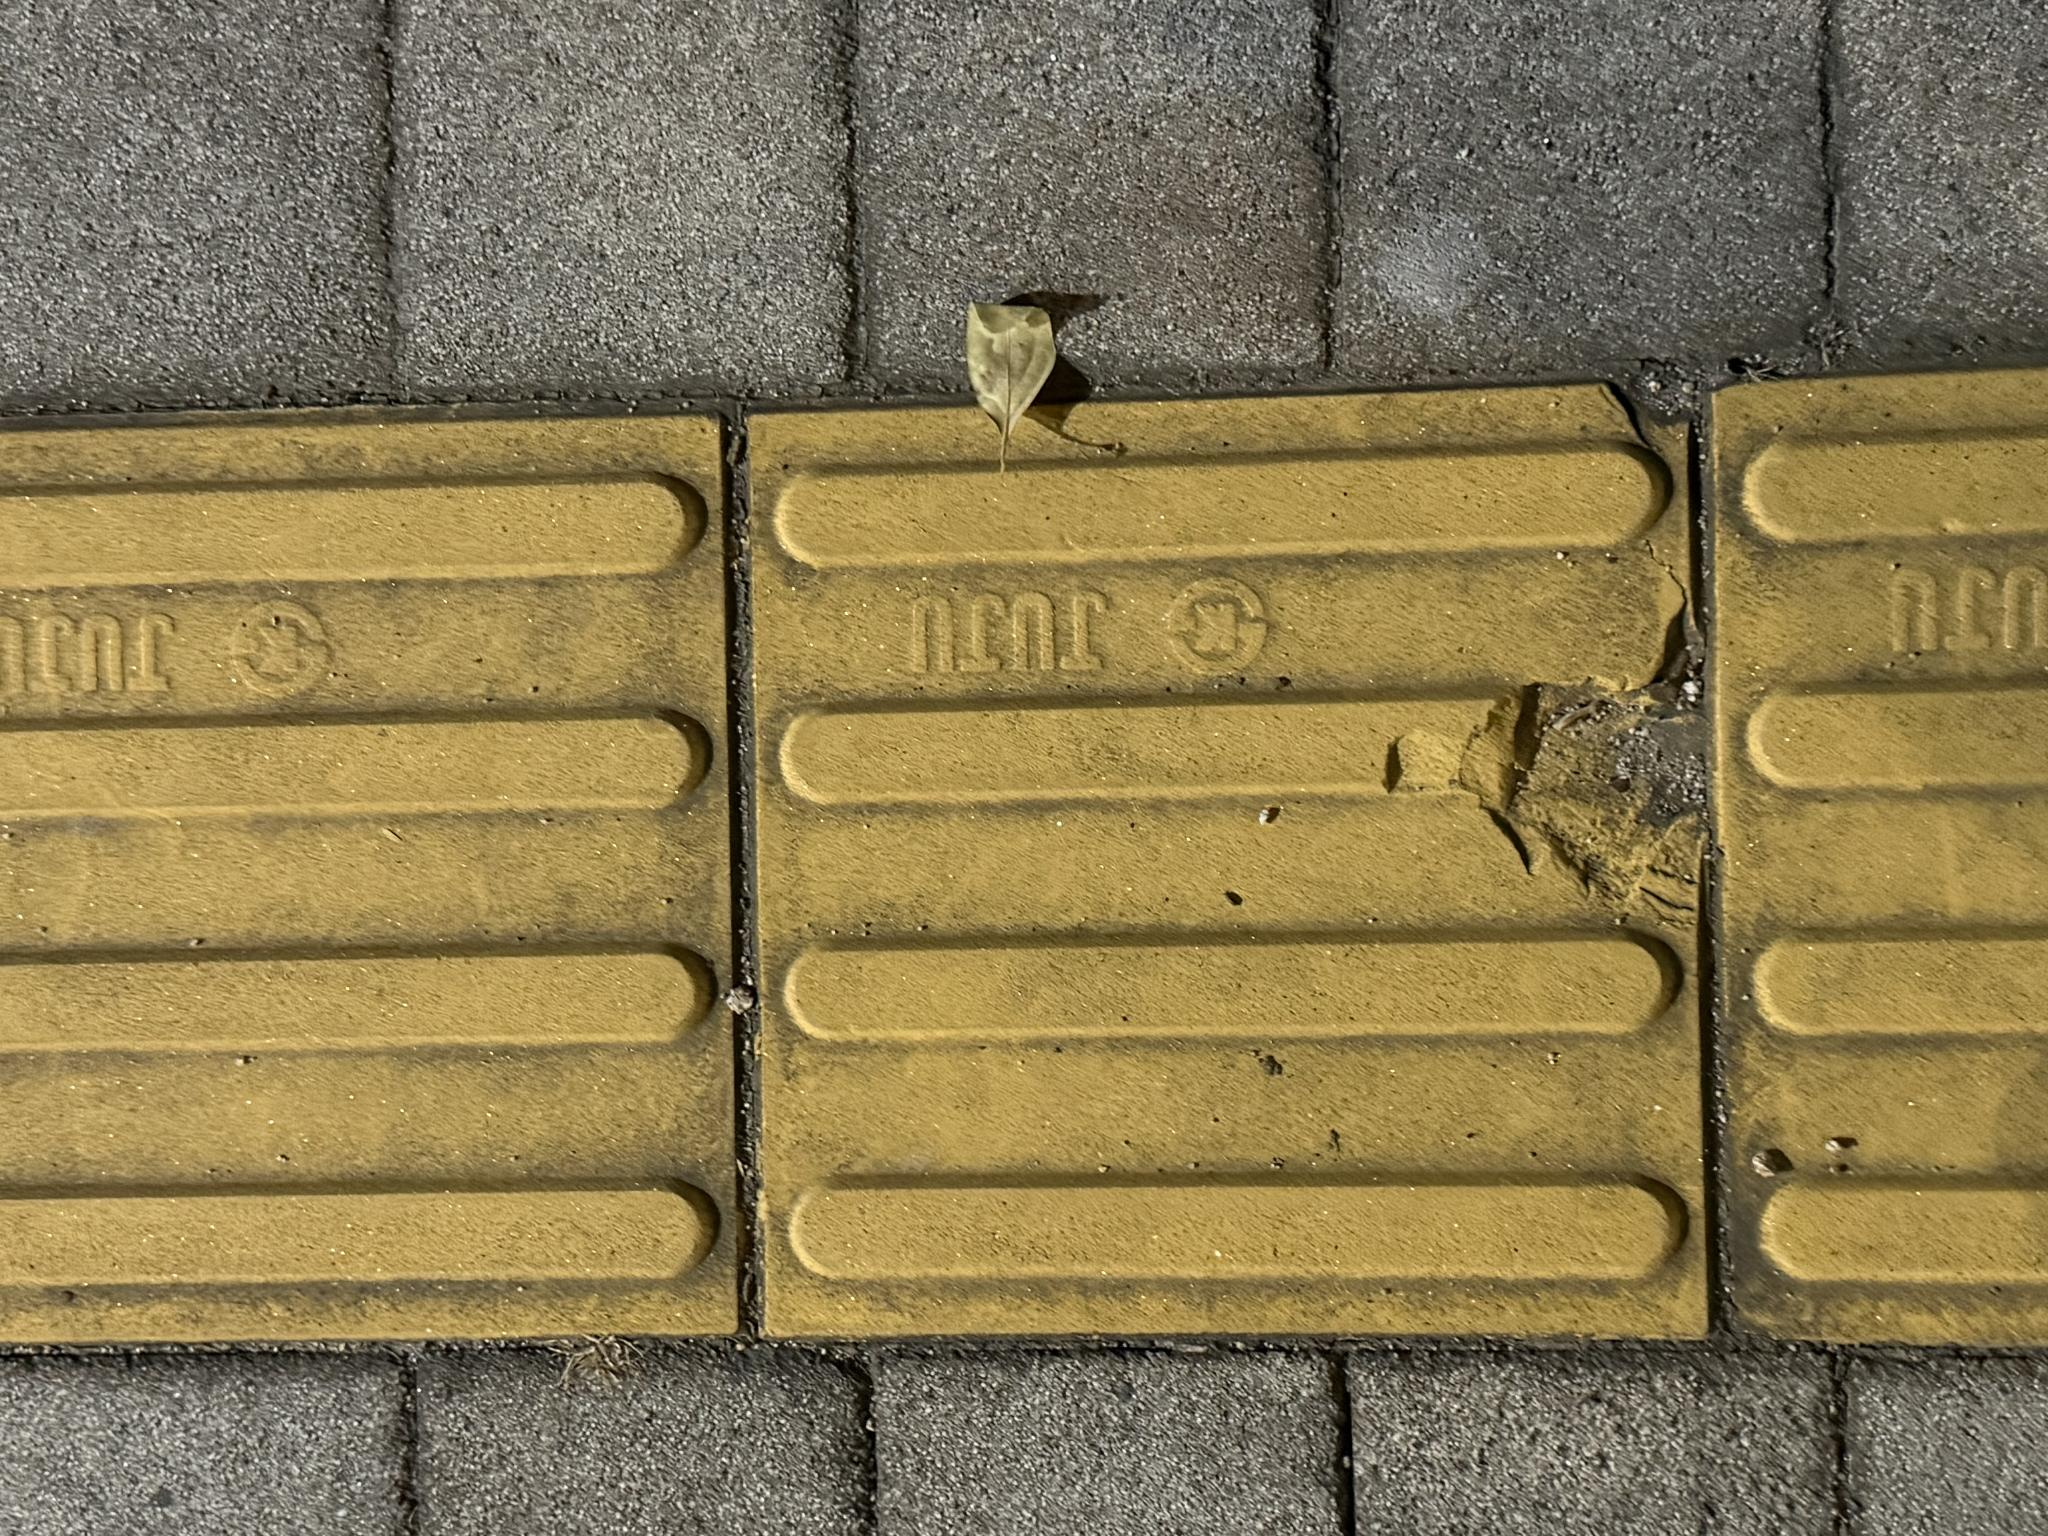Straight block broken: (205, 757, 1130, 1536)
